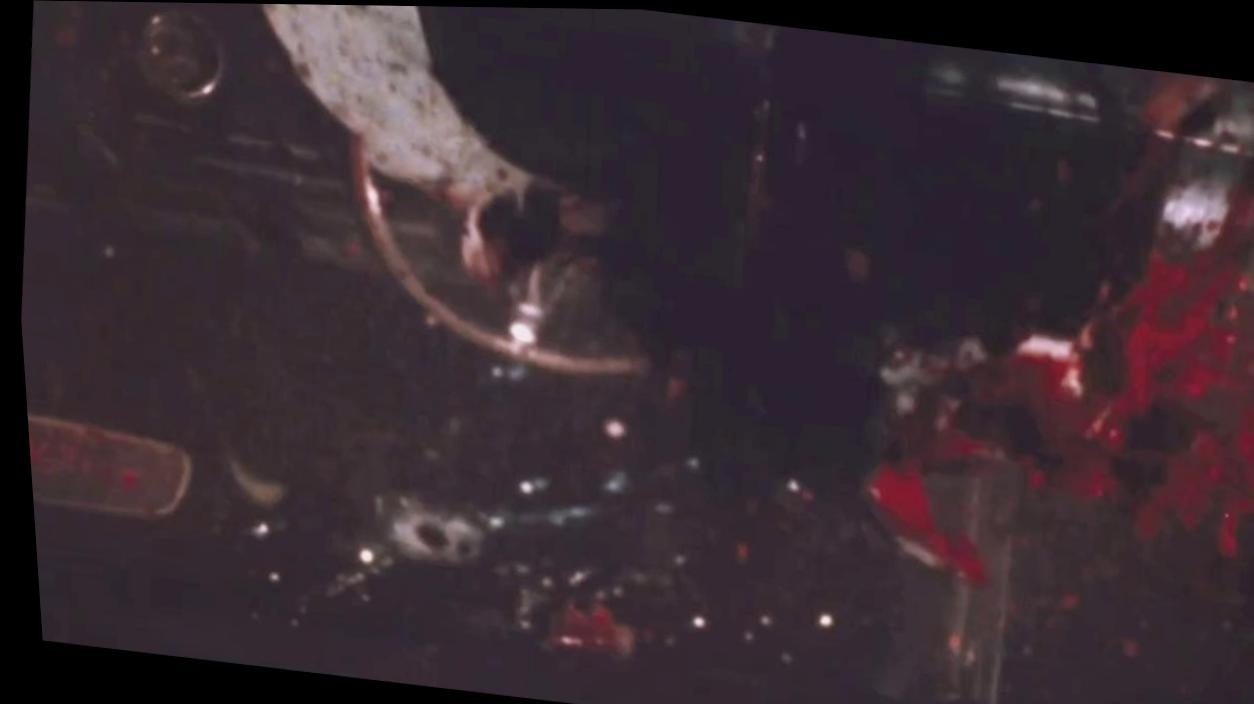Fire: (857, 53, 1254, 588)
